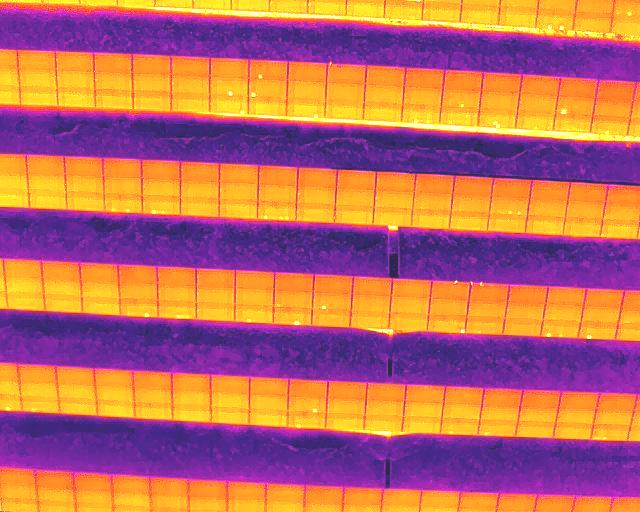Cell: (249, 60, 288, 80), (427, 315, 466, 333), (555, 98, 596, 115), (431, 281, 469, 299), (235, 306, 273, 324), (274, 308, 312, 326), (248, 81, 287, 98), (210, 97, 249, 114), (593, 116, 629, 134), (313, 293, 351, 310), (209, 79, 247, 96), (22, 396, 60, 413), (442, 91, 480, 107), (478, 420, 516, 436), (121, 302, 158, 318), (440, 420, 479, 435), (287, 101, 325, 116), (578, 324, 616, 339), (288, 397, 326, 412), (288, 413, 326, 427)
Cell-Multi: (142, 196, 181, 214), (490, 197, 528, 215), (537, 10, 573, 29), (258, 203, 296, 220), (402, 105, 440, 122), (590, 425, 630, 441), (105, 195, 142, 212), (470, 283, 507, 300), (541, 321, 578, 338), (478, 111, 516, 127), (157, 302, 195, 317)
No-Anomaly: (366, 65, 405, 86), (297, 167, 336, 188), (235, 270, 274, 290), (210, 59, 249, 79), (327, 63, 366, 83), (443, 71, 482, 91), (56, 52, 95, 72), (288, 81, 326, 101), (325, 83, 365, 102), (94, 52, 132, 72), (18, 49, 56, 69), (142, 159, 180, 179), (181, 161, 219, 181), (600, 220, 639, 239), (337, 170, 376, 189), (453, 176, 492, 195), (458, 494, 499, 512), (219, 200, 257, 219), (6, 291, 44, 310), (44, 294, 82, 313), (171, 76, 209, 95), (518, 94, 556, 113), (461, 4, 499, 23), (259, 166, 297, 185), (573, 11, 611, 30), (289, 378, 327, 397), (266, 485, 304, 504), (304, 486, 342, 505), (507, 284, 547, 302), (596, 80, 636, 98), (496, 494, 536, 512), (593, 98, 633, 116), (570, 182, 606, 202), (67, 192, 104, 211), (406, 69, 443, 88), (423, 1, 460, 20), (498, 7, 535, 26), (492, 178, 529, 197), (0, 487, 37, 506), (526, 216, 565, 234), (353, 277, 392, 295), (392, 279, 431, 297), (81, 280, 120, 298), (390, 297, 429, 315), (196, 303, 235, 321), (520, 77, 559, 95), (558, 79, 597, 97), (196, 269, 235, 287), (220, 164, 259, 182), (530, 180, 569, 198), (381, 490, 422, 507), (419, 491, 460, 508), (479, 93, 520, 110), (521, 390, 562, 407), (514, 420, 555, 437), (414, 193, 452, 211), (119, 266, 157, 284), (275, 275, 313, 293), (352, 295, 390, 313), (350, 311, 388, 329), (94, 73, 132, 91), (365, 86, 403, 104), (19, 87, 57, 105), (157, 267, 195, 285), (288, 63, 326, 81), (18, 70, 56, 88), (171, 58, 209, 76), (133, 55, 171, 73), (133, 73, 171, 91), (133, 92, 171, 110), (364, 104, 402, 122), (27, 156, 65, 174), (104, 159, 142, 177), (376, 172, 414, 190), (415, 174, 453, 192), (104, 177, 142, 195), (336, 190, 376, 207), (603, 203, 640, 221), (564, 218, 601, 236), (483, 75, 520, 93), (386, 1, 423, 19), (189, 480, 226, 498), (450, 212, 489, 229), (80, 263, 119, 280), (314, 276, 353, 293), (42, 277, 81, 294), (430, 298, 469, 315), (66, 174, 105, 191), (19, 365, 58, 382), (366, 382, 405, 399), (597, 394, 636, 411), (35, 472, 74, 489), (343, 488, 382, 505), (606, 184, 639, 204), (375, 191, 413, 208), (452, 195, 490, 212), (180, 199, 218, 216), (529, 199, 567, 216), (335, 207, 373, 224), (4, 259, 42, 276), (506, 303, 544, 320), (581, 306, 619, 323), (57, 72, 95, 89), (312, 310, 350, 327), (219, 183, 257, 200), (172, 95, 210, 112), (249, 99, 287, 116), (65, 157, 103, 174), (28, 174, 66, 191), (142, 179, 180, 196), (173, 373, 211, 390), (211, 374, 249, 391), (250, 376, 288, 393), (327, 381, 365, 398), (482, 389, 520, 406), (560, 391, 598, 408), (73, 474, 111, 491), (112, 476, 150, 493), (151, 478, 189, 495), (227, 484, 265, 501), (36, 489, 74, 506), (258, 185, 296, 202), (533, 497, 576, 512), (365, 400, 405, 416), (412, 210, 449, 227), (120, 285, 157, 302), (468, 300, 505, 317), (544, 304, 581, 321), (404, 87, 441, 104), (58, 89, 95, 106), (30, 191, 67, 208), (95, 91, 132, 108), (296, 206, 335, 222), (374, 209, 413, 225), (112, 494, 151, 510), (150, 496, 189, 512), (297, 189, 336, 205), (180, 182, 219, 198), (20, 382, 59, 398), (405, 386, 444, 402), (59, 399, 98, 415), (518, 406, 557, 422), (593, 410, 632, 426), (572, 497, 613, 512), (548, 286, 584, 303), (585, 289, 621, 306), (467, 318, 503, 335), (566, 202, 604, 218), (158, 286, 196, 302), (82, 298, 120, 314), (326, 102, 364, 118), (445, 387, 483, 403), (211, 392, 249, 408), (250, 394, 288, 410), (442, 403, 480, 419), (489, 215, 526, 231), (347, 0, 384, 16), (75, 492, 112, 508), (554, 116, 591, 132), (58, 367, 95, 383), (98, 401, 135, 417), (0, 471, 37, 487), (5, 276, 44, 291), (440, 108, 479, 123), (516, 113, 555, 128), (57, 384, 96, 399), (96, 386, 135, 401), (326, 398, 365, 413), (402, 418, 441, 433), (42, 261, 80, 276), (235, 290, 273, 305), (389, 314, 427, 329), (95, 370, 133, 385), (503, 320, 541, 335), (134, 373, 172, 388), (405, 402, 443, 417), (211, 409, 249, 424), (250, 411, 288, 426), (326, 414, 364, 429), (554, 423, 592, 438), (363, 416, 403, 430), (136, 404, 173, 419), (173, 405, 210, 420), (196, 288, 235, 302), (274, 293, 313, 307), (557, 408, 593, 423), (173, 390, 211, 404), (135, 389, 172, 403), (481, 406, 520, 419)
